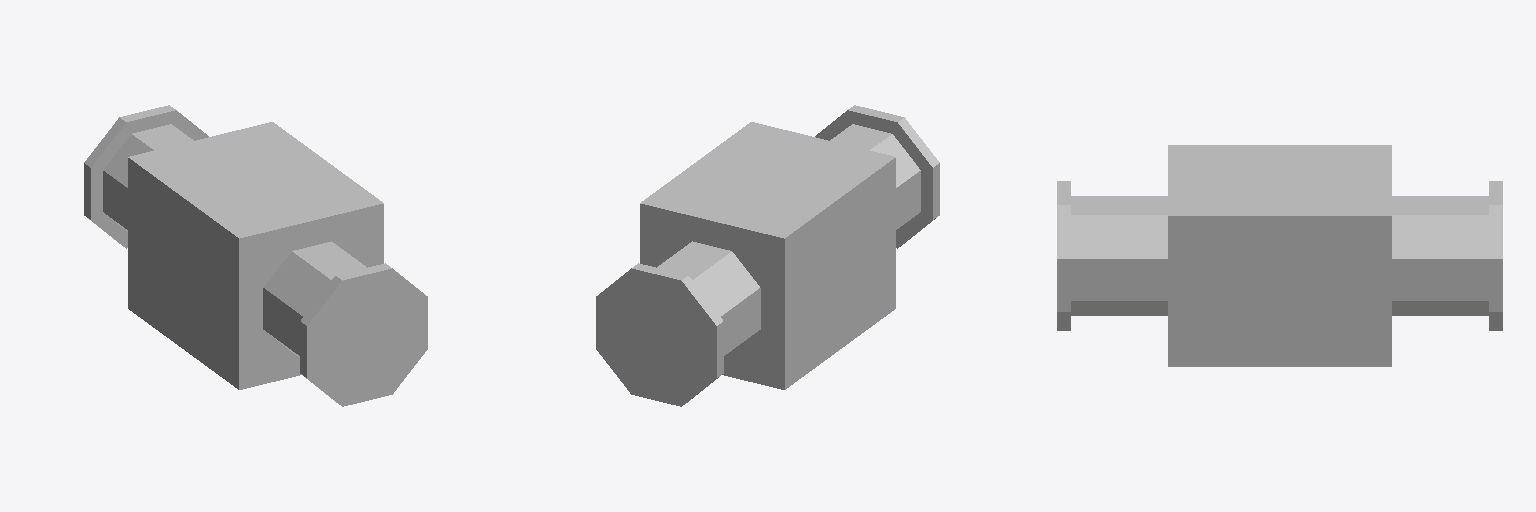
Rendered from pipeworks_flow_sensor_lowpoly.obj.
The picture shows the model from 3 angles: view 1: azimuth 30°, elevation 25°; view 2: azimuth 150°, elevation 25°; view 3: azimuth 270°, elevation 25°; orthographic projection.
Parts seen in each view (by area): view 1: Cube.001_Cube.001_None; view 2: Cube.001_Cube.001_None; view 3: Cube.001_Cube.001_None.
Boxes of the visible parts, <box> form: Cube.001_Cube.001_None: <box>84,105,427,406</box>; Cube.001_Cube.001_None: <box>596,105,939,406</box>; Cube.001_Cube.001_None: <box>1057,145,1502,366</box>.
Bounding box in the file's own units: 0.375 × 0.375 × 1.